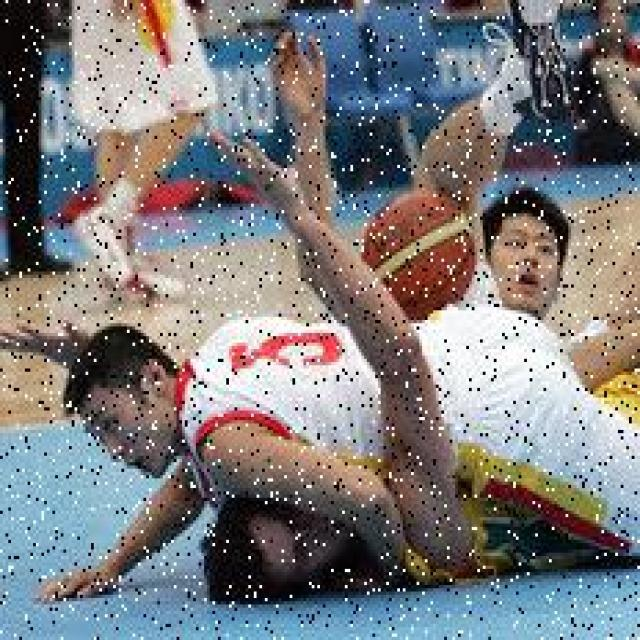fall: (75, 307, 638, 543)
